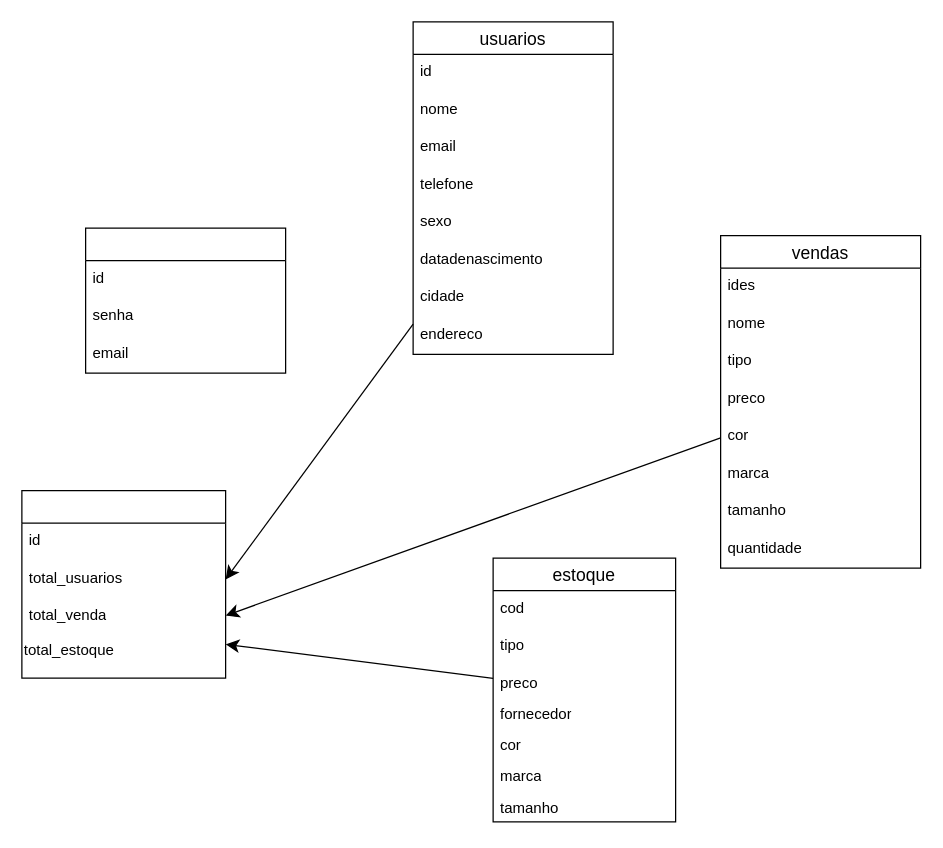
Image size: 943x848. Some labels were removed from this diagram. The box of each missing label's shape, as (x1, y1, x2, y2) in pixels:
cadastro: (84, 227, 286, 373)
contador: (21, 489, 226, 678)
